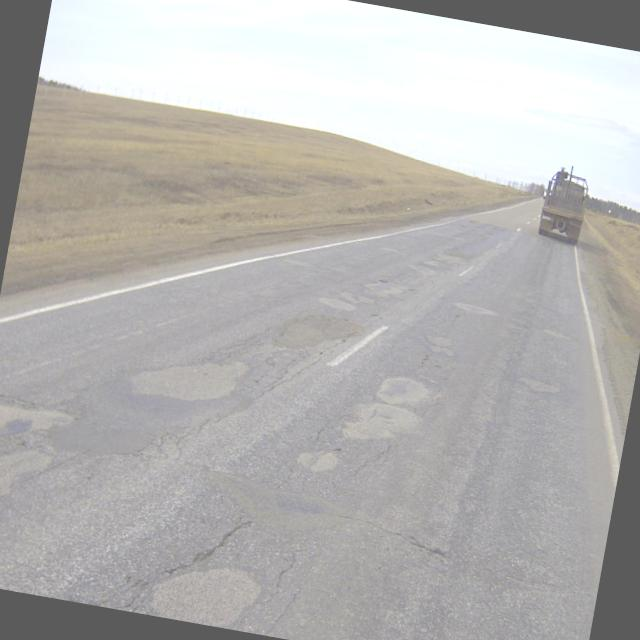road: (0, 197, 619, 640)
